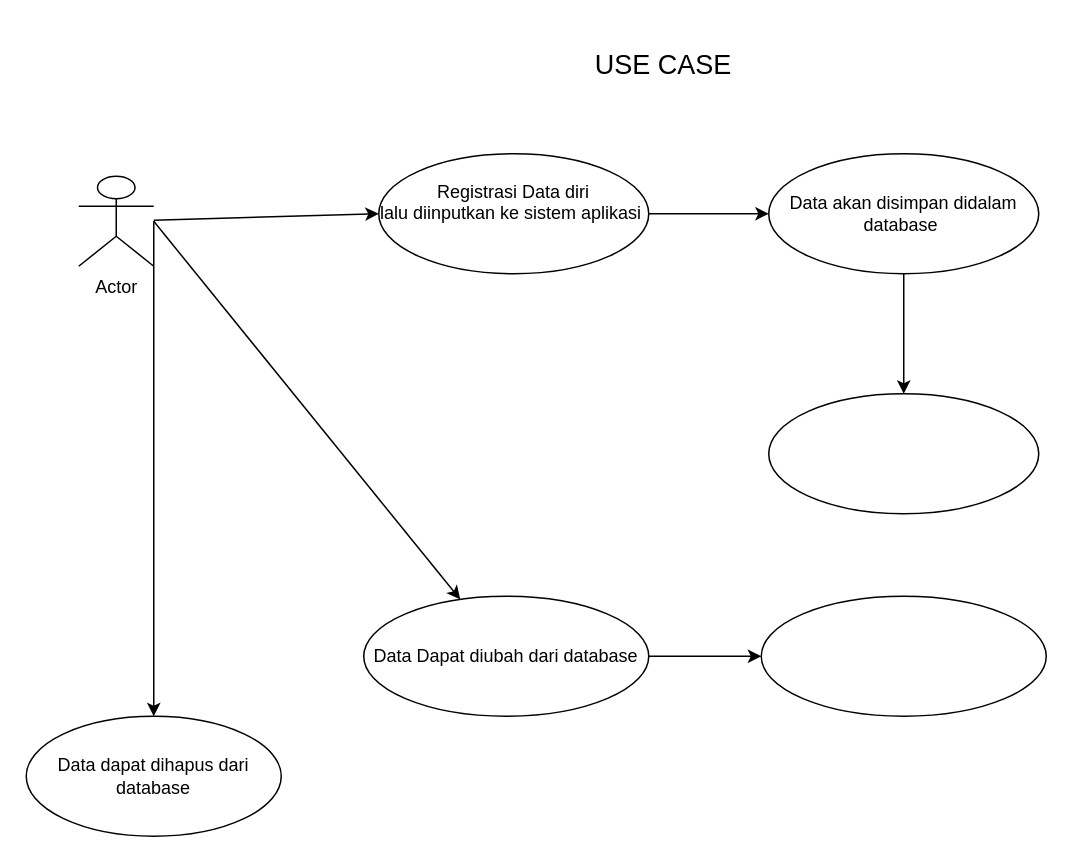
Some shapes in this 1073 by 863 pixel diagram are drawn without their labels. The shapes that lost their labels are listed below. From the top down, each one's centre as x and y in pixels, then its label:
the point at 903,453: Data Ditampilkan dari database ke aplikasi
the point at 903,655: Data dapat ditampilkan di aplikasi
